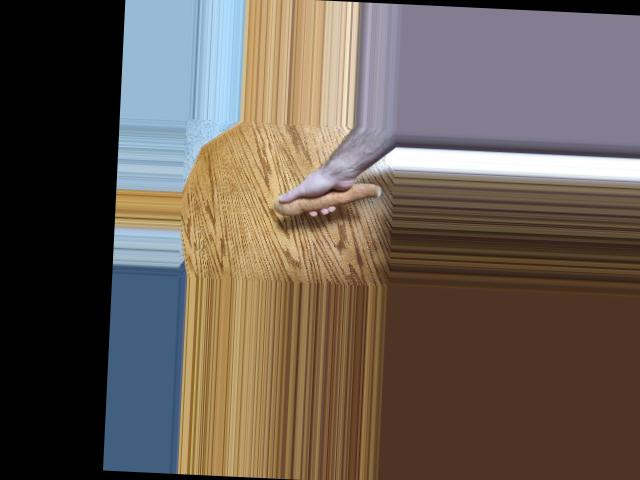sweet_potato: (274, 177, 382, 220)
